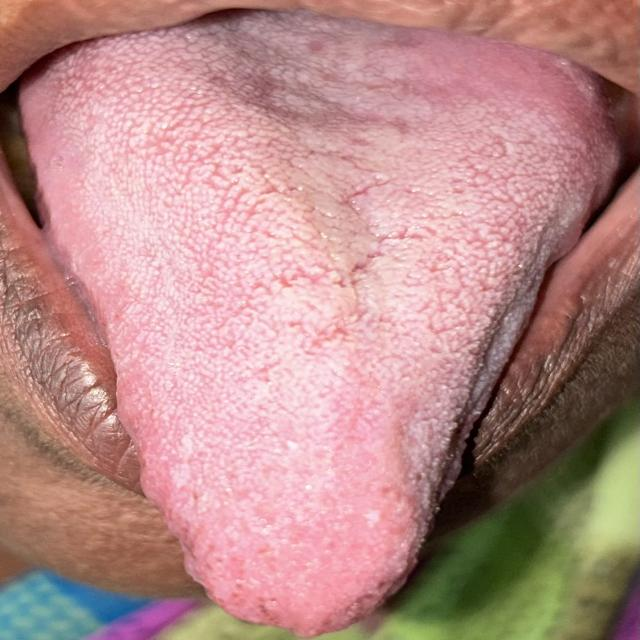processing_area: (18, 11, 606, 634)
